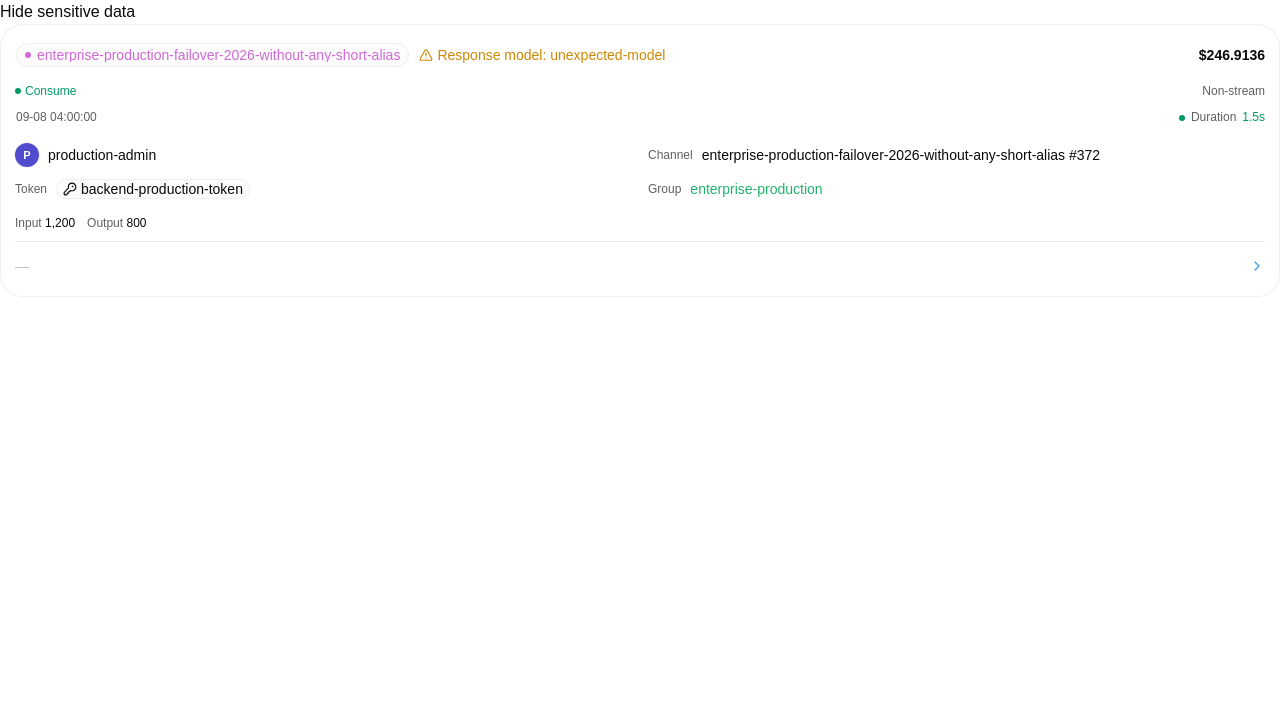
shows model mismatch evidence when tapping the mobile model badge
The width and height of the screenshot is (1280, 720).
Click the button with aria-label "Model: enterprise-production-failover-2026-without-any-short".
click(344, 55)  # box left=15, top=39, right=672, bottom=71
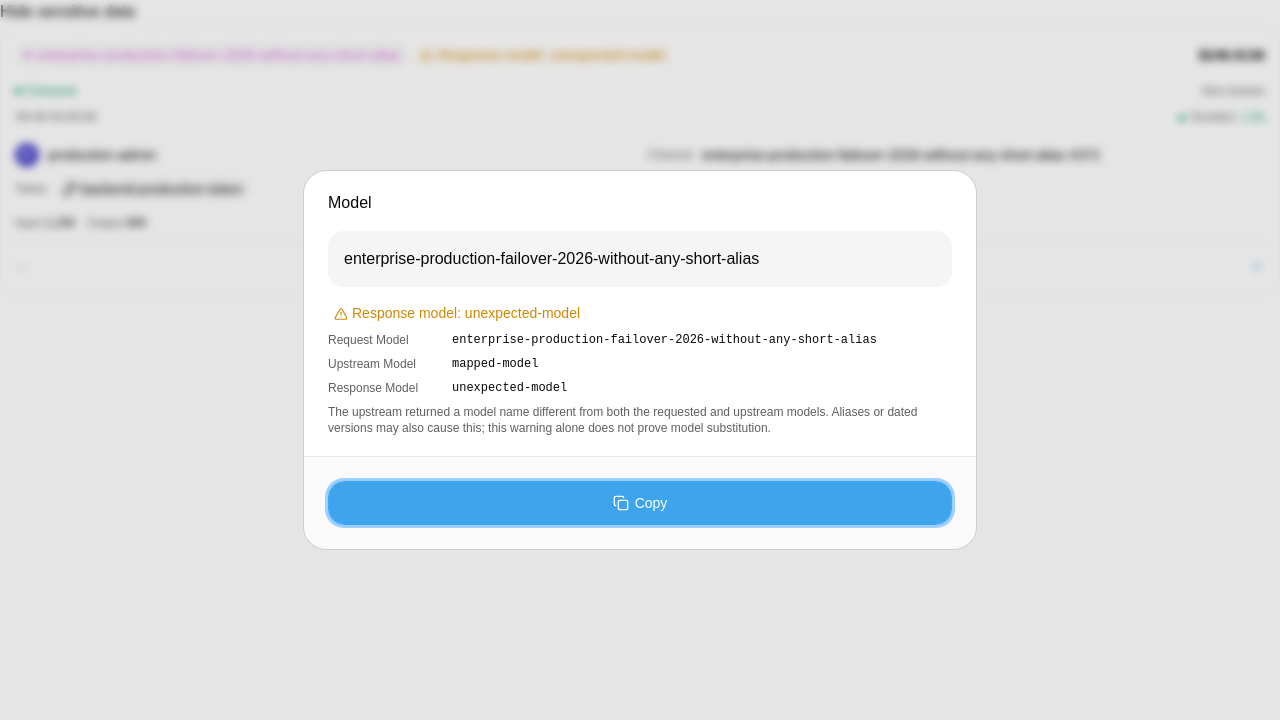
Now the text "Response model: unexpected-model" is shown, box left=352, top=303, right=580, bottom=324
Now the text "mapped-model" is shown, box left=452, top=357, right=538, bottom=371
Now the text "unexpected-model" is shown, box left=452, top=381, right=567, bottom=395
